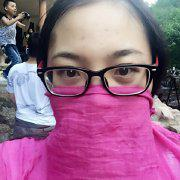NONE: (9, 4, 19, 16)
OK: (52, 45, 157, 150)
